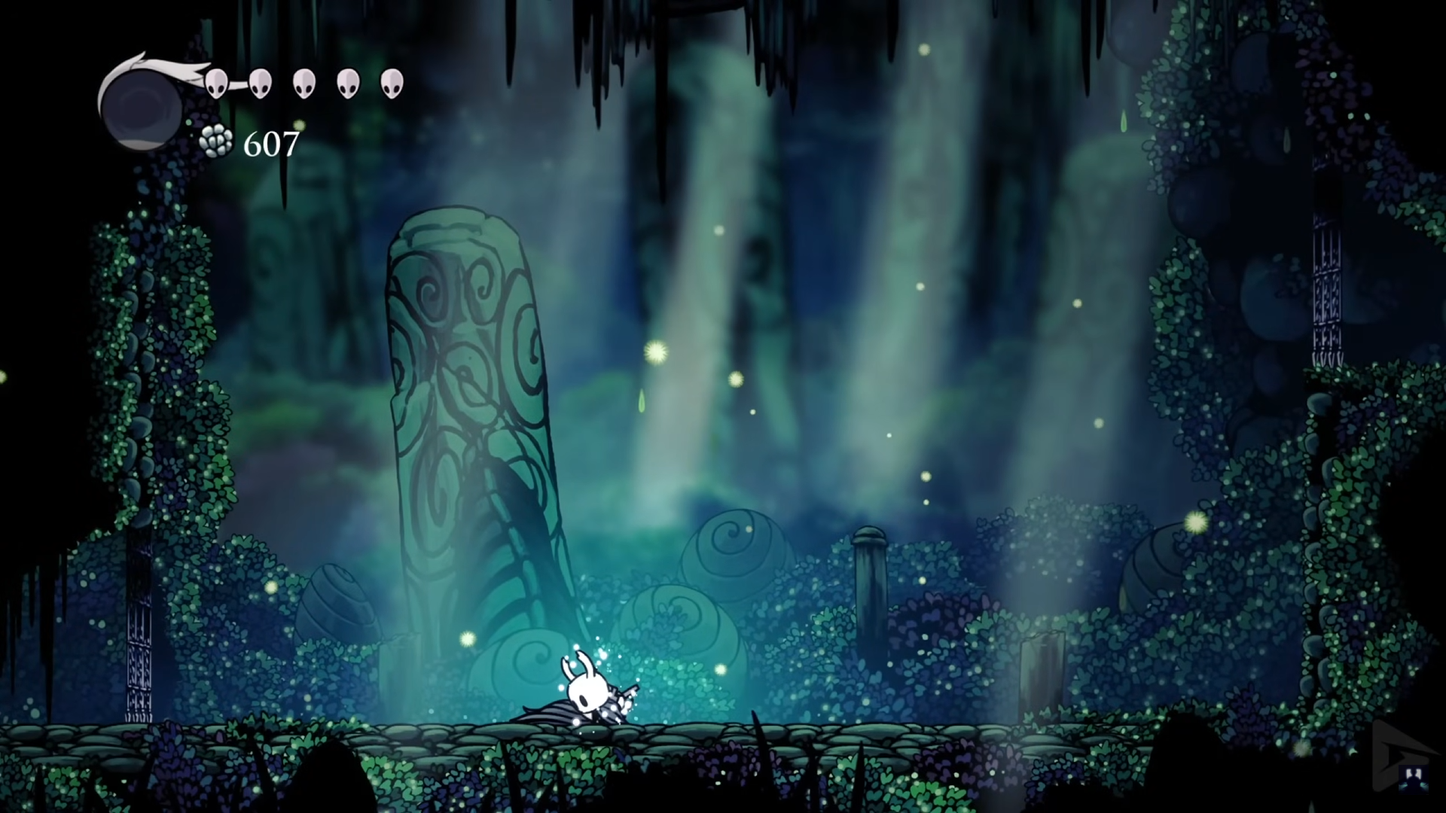HK: (557, 646, 628, 732)
